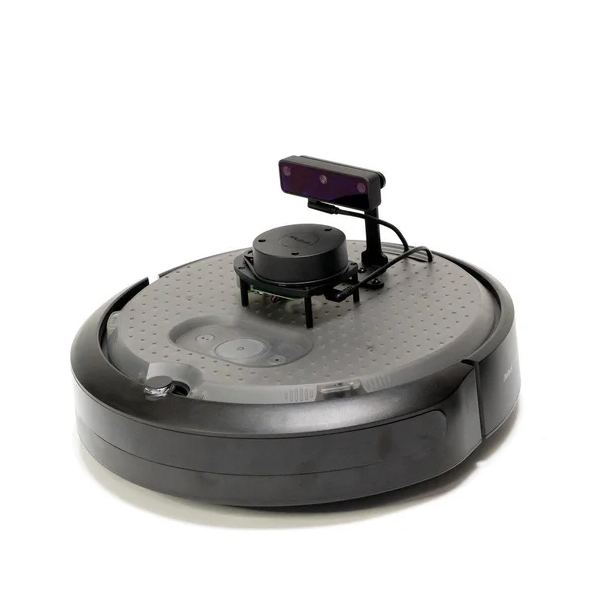turtlebot: (18, 132, 570, 529)
